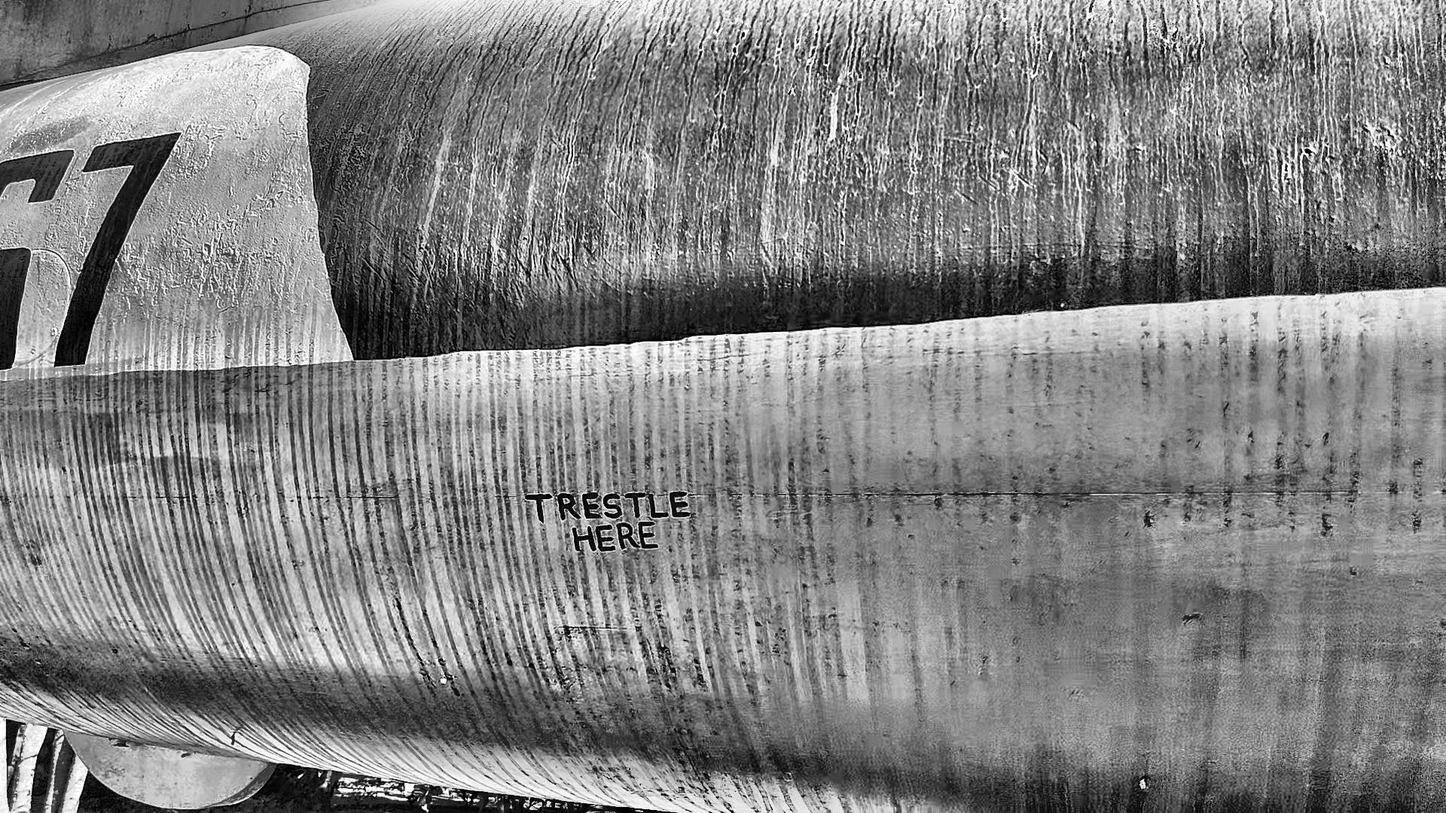paint-peel-off: (1364, 125, 1395, 146), (1183, 613, 1200, 624), (1143, 511, 1154, 527), (145, 34, 157, 44), (1304, 147, 1315, 155), (1282, 163, 1289, 173)
scratch: (602, 194, 626, 223), (362, 258, 387, 284), (1010, 168, 1036, 188), (570, 237, 579, 289), (956, 190, 980, 207), (978, 175, 1000, 191)
